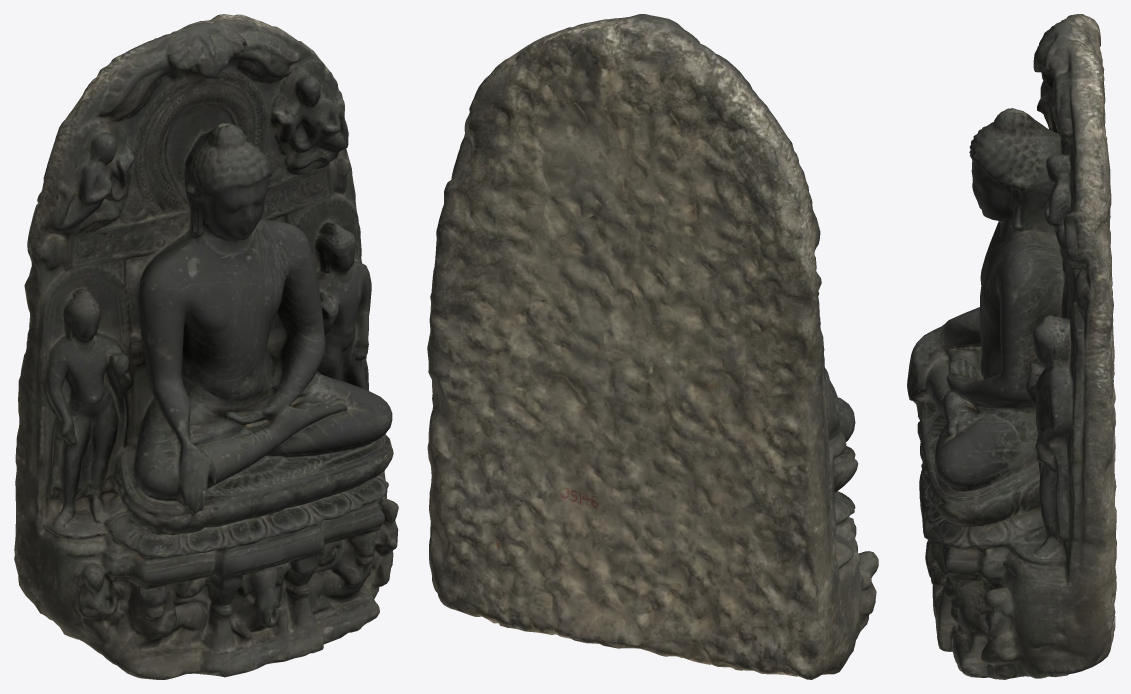
Rendered from buddha.glb.
The picture shows the model from 3 angles, left to right: view 1: azimuth 30°, elevation 25°; view 2: azimuth 150°, elevation 25°; view 3: azimuth 270°, elevation 25°; orthographic projection. The views are drawn at different scales.
Visible parts, largest first — view 1: Object_2; view 2: Object_2; view 3: Object_2.
Part boxes in pixels (left/top/right/bottom): Object_2: left=14, top=14, right=398, bottom=679; Object_2: left=427, top=14, right=878, bottom=679; Object_2: left=907, top=14, right=1116, bottom=679.
Bounding box in the file's own units: 0.5754 × 0.94 × 0.3009.
Materials: 1 (1 with a texture image).
